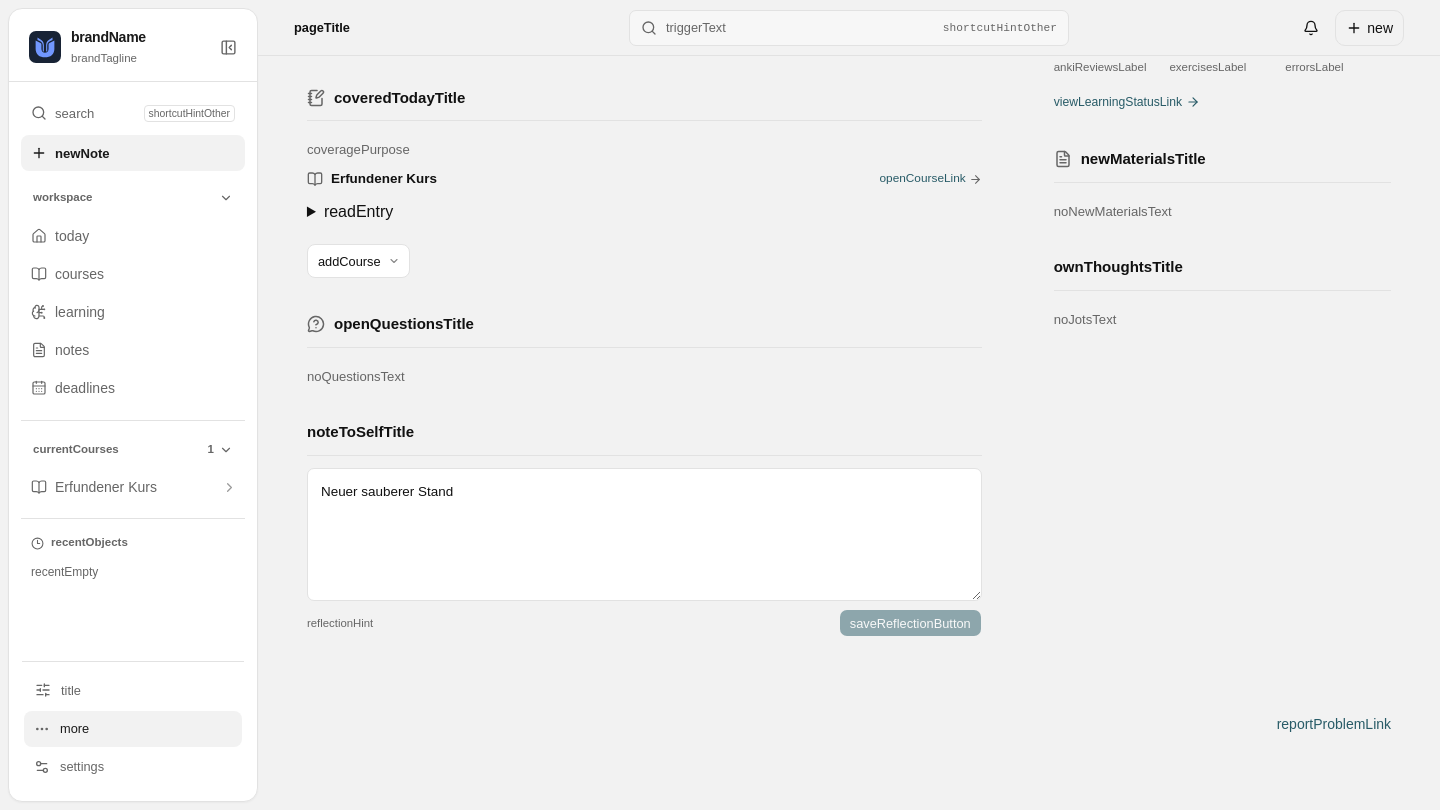
Test case: adopts a clean journal refetch and preserves reflection text typed during its save
(page scrolled)
Replace the text in the text box named "myDailyNoteAria" with "Abgeschickter Stand A" at (644, 535), box [307, 468, 982, 602]
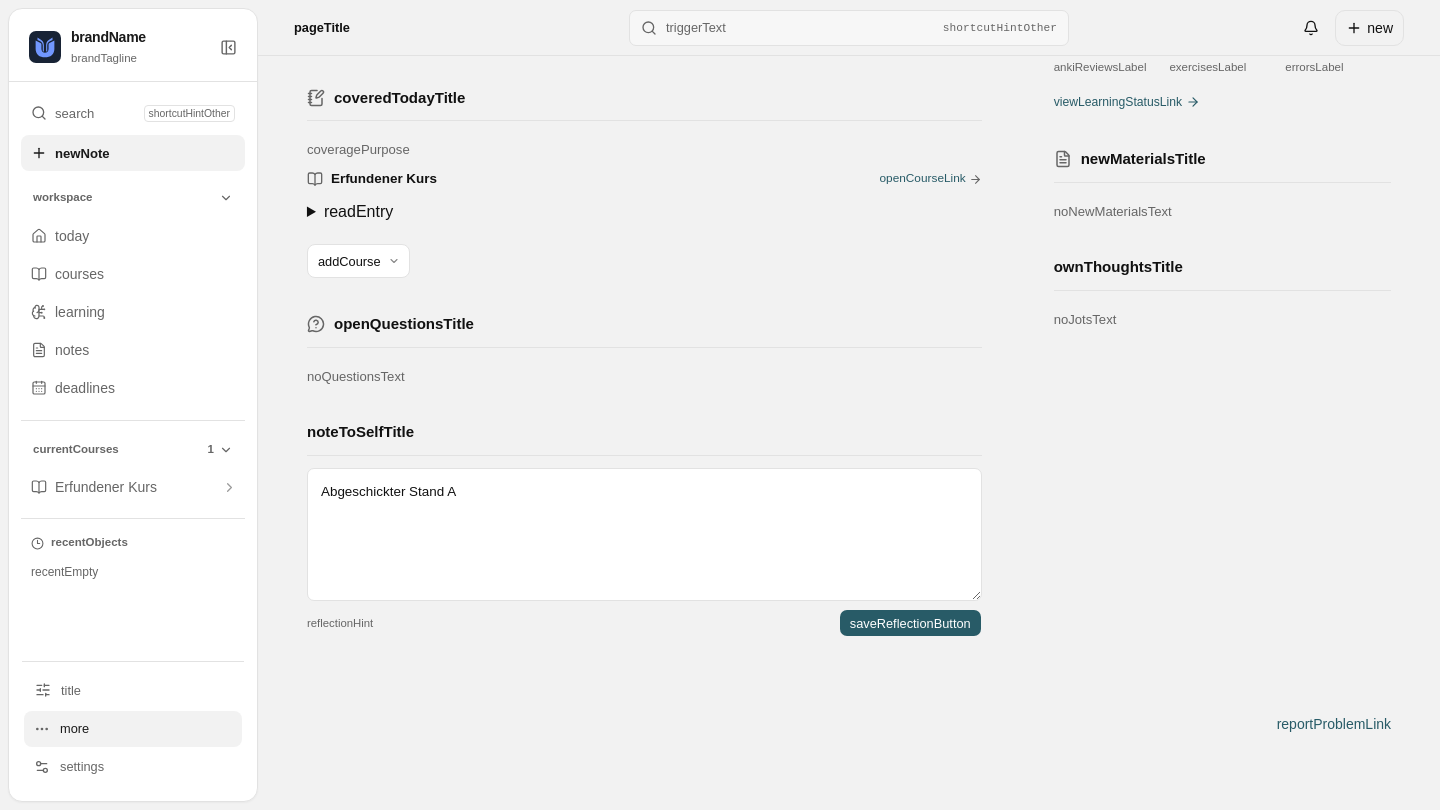
Click the button "saveReflectionButton".
click(910, 624)  # box [839, 610, 982, 638]
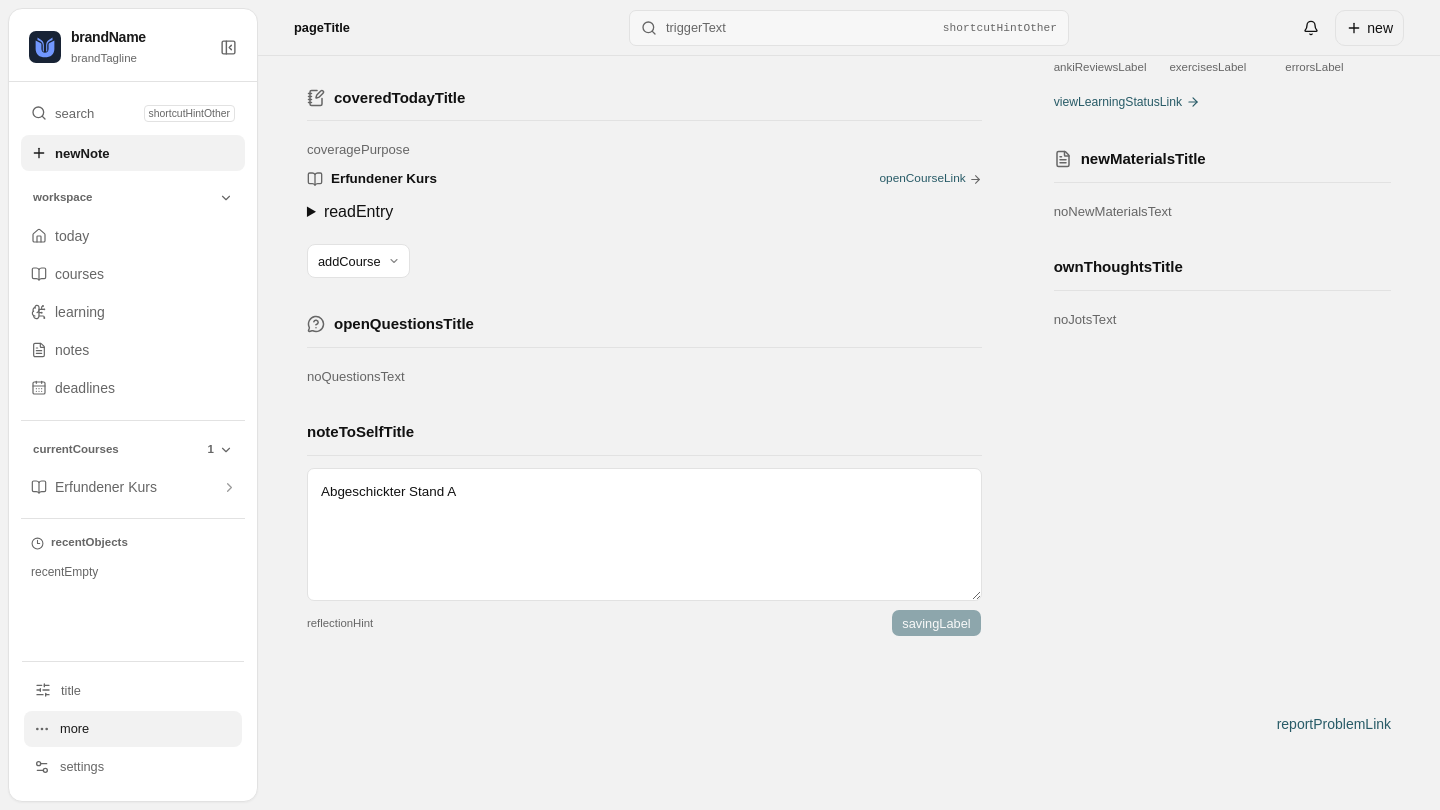
Replace the text in the text box named "myDailyNoteAria" with "Weitergetippter Stand B" at (644, 535), box [307, 468, 982, 602]
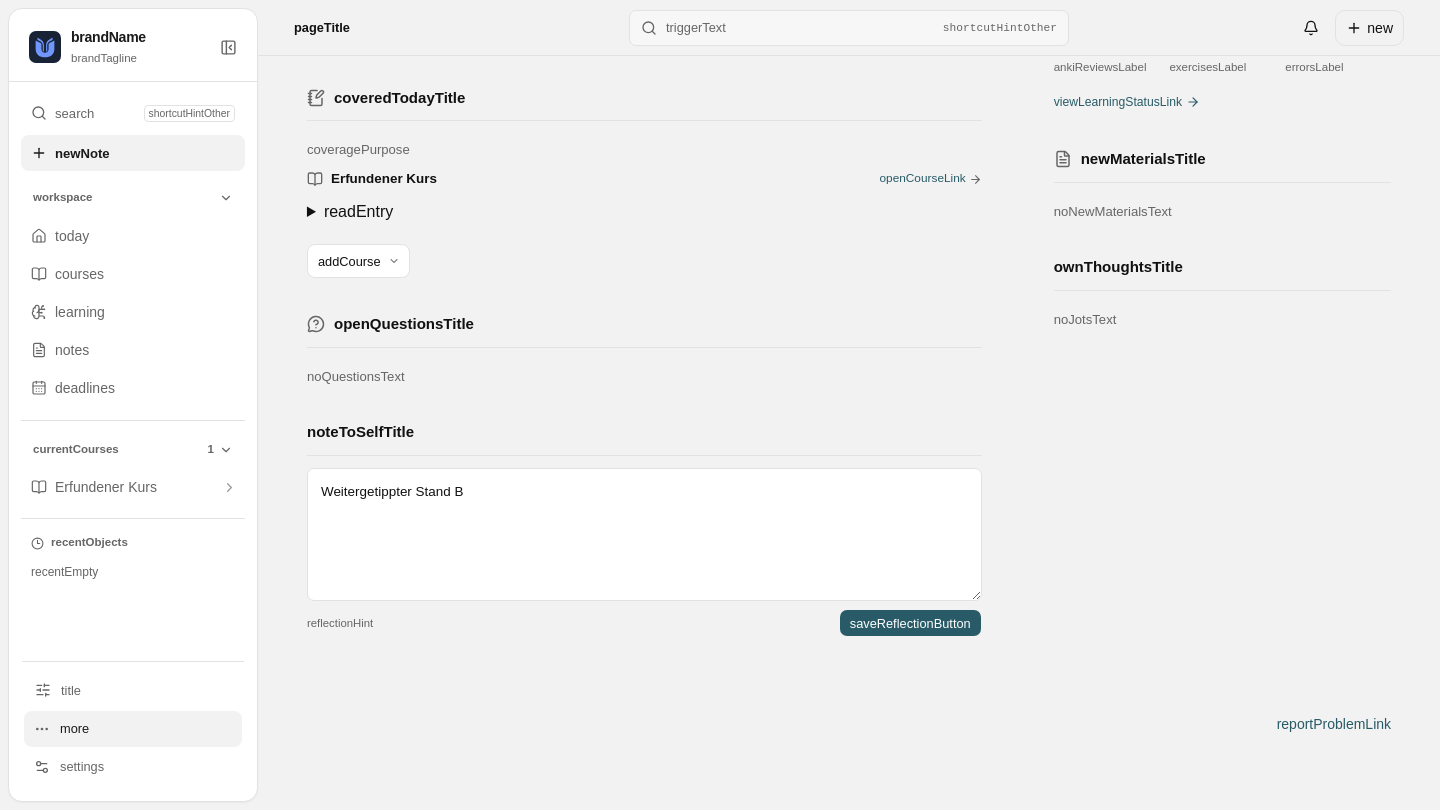
Result: the button "saveReflectionButton" is enabled at [839, 610, 982, 638]
